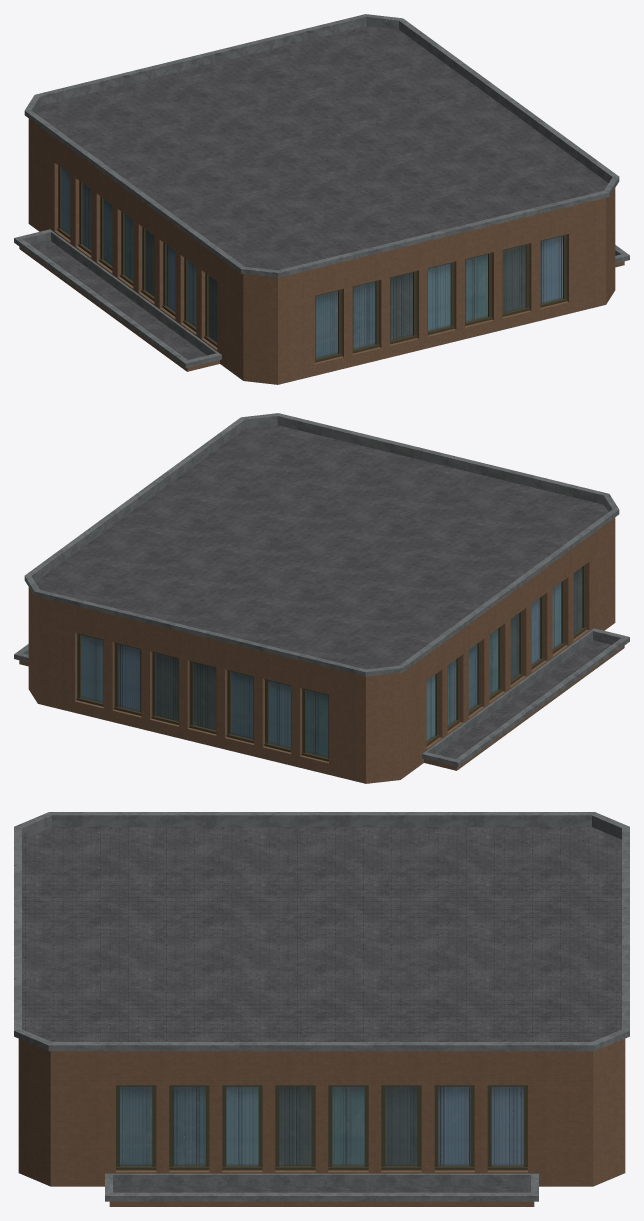
Rendered from jctBld50B_top.fbx.
The picture shows the model from 3 angles, top to bottom: view 1: azimuth 30°, elevation 25°; view 2: azimuth 150°, elevation 25°; view 3: azimuth 270°, elevation 25°; orthographic projection. The views are drawn at different scales.
Parts seen in each view (by area): view 1: jctBld50B_top_LOD0; view 2: jctBld50B_top_LOD0; view 3: jctBld50B_top_LOD0.
Boxes of the visible parts, left/top/right/bottom form: jctBld50B_top_LOD0: left=14, top=14, right=629, bottom=384; jctBld50B_top_LOD0: left=14, top=413, right=629, bottom=783; jctBld50B_top_LOD0: left=14, top=812, right=629, bottom=1206.
Size of the model in its own units: 4060 by 990 by 3860.
